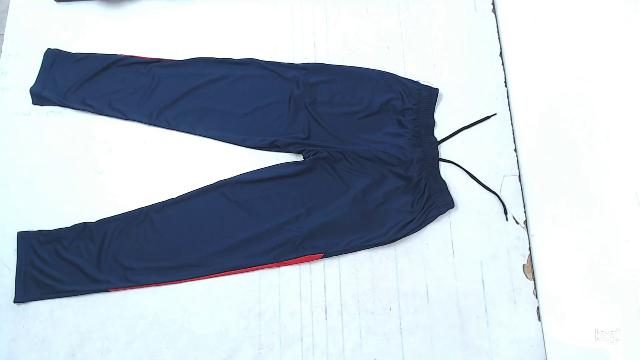new-garment: (14, 49, 454, 302)
